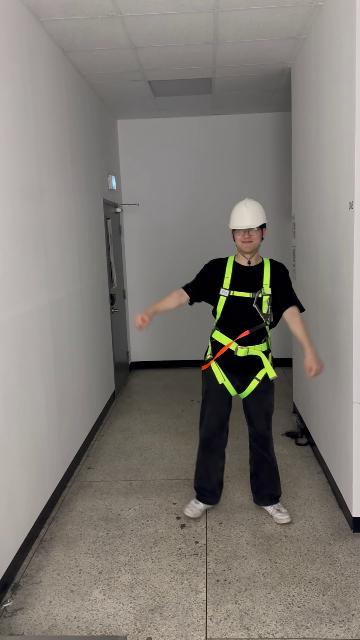helmet_worn: (227, 196, 269, 230)
shoe_not_worn: (260, 502, 291, 523), (184, 498, 215, 518)
vest_worn: (204, 257, 279, 397)
